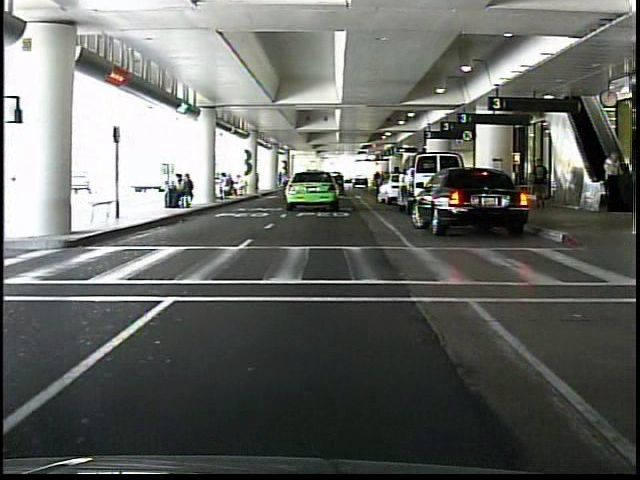person: (600, 146, 624, 210), (529, 153, 553, 213)
